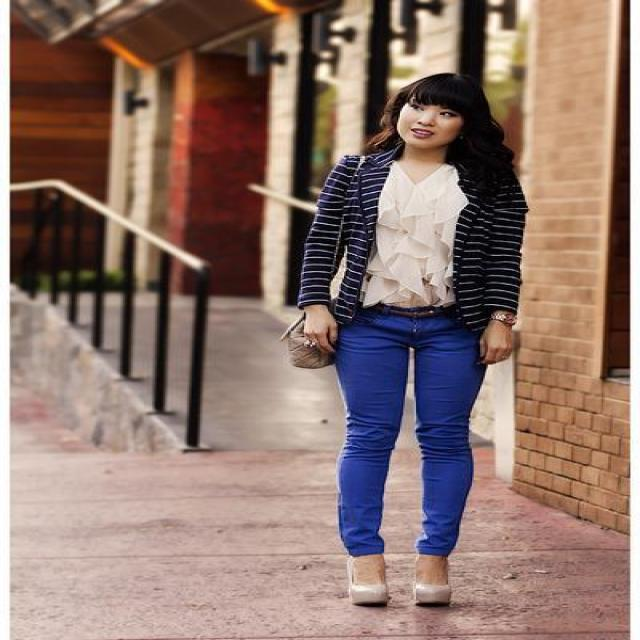jacket: (283, 152, 528, 314)
pants: (328, 301, 496, 560)
shirt: (365, 164, 470, 307)
shoe: (416, 592, 464, 611)
